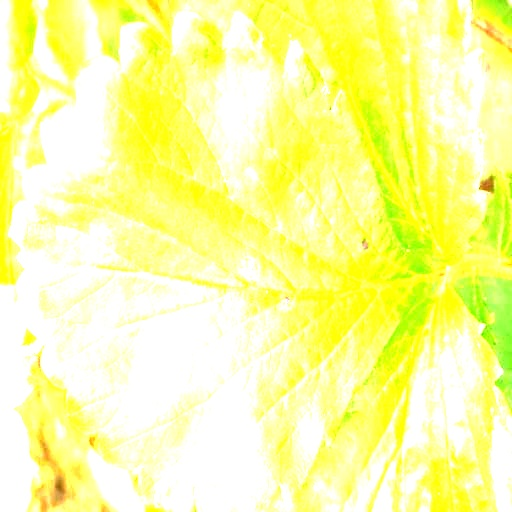Leaf Spot: (9, 11, 434, 511)
